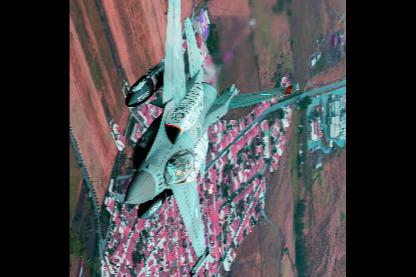F14: (121, 0, 300, 276)
